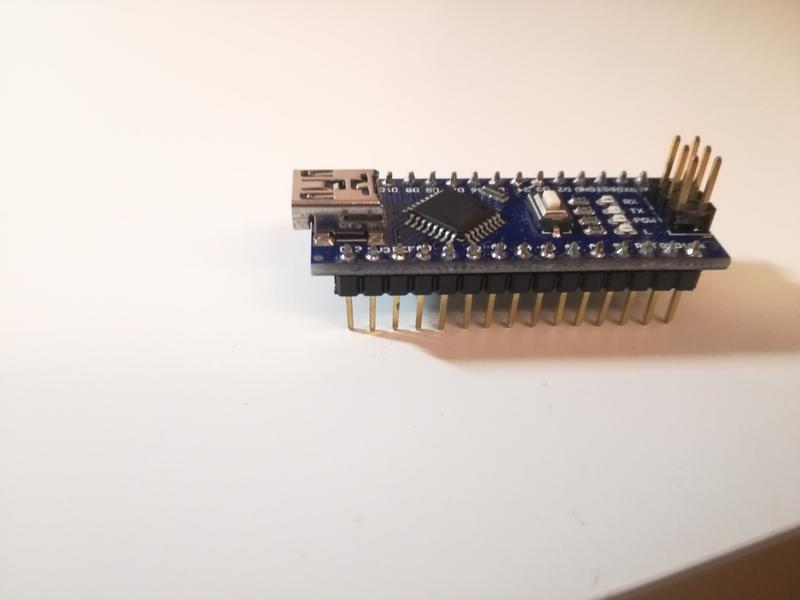Arduino_Nano: (279, 130, 738, 345)
